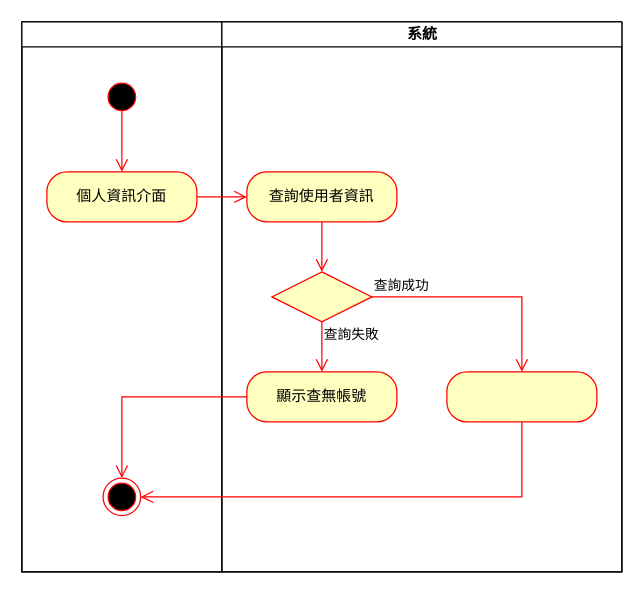
This 644x594 diagram has some shape labels left out. The shapes that lost their labels are listed below. From the top down, each one's box as (x1, y1, x2, y2) in pixels, then its label:
(21, 21, 222, 572): 使用者
(446, 371, 597, 422): 顯示登入成功
